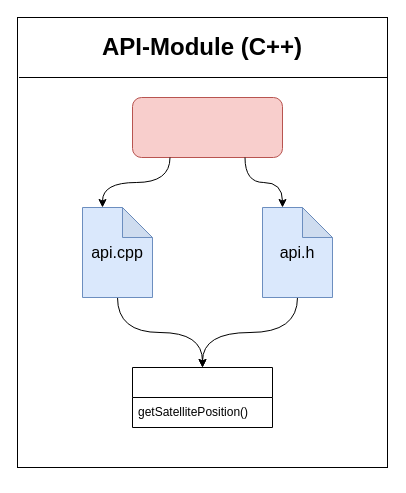
Some shapes in this 406 by 493 pixel diagram are drawn without their labels. Each missing label, with the box of its shape:
Functions: (132, 366, 272, 428)
QNetworkRequest library: (132, 96, 282, 158)
